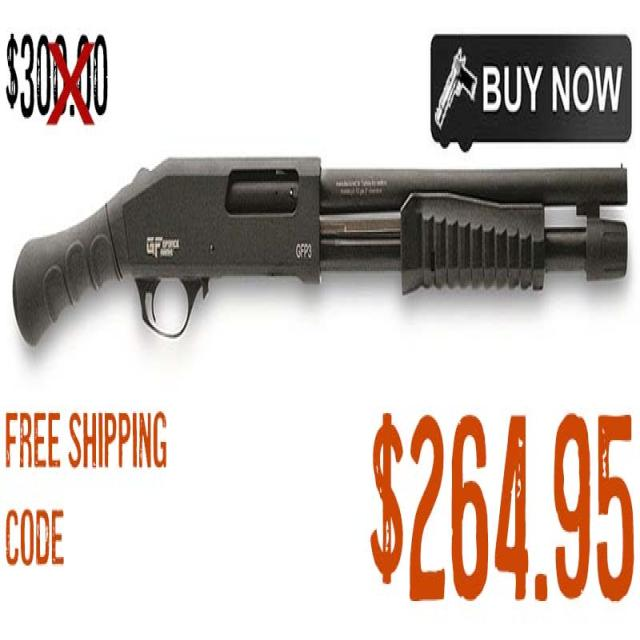ShotGun: (13, 157, 632, 347)
